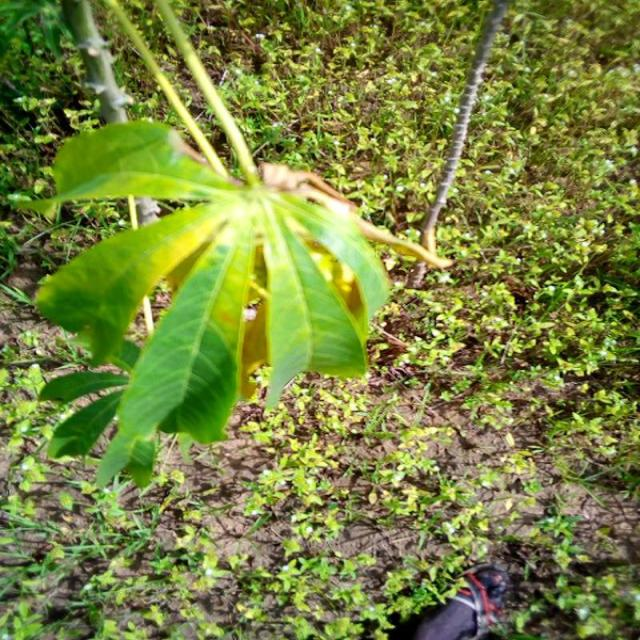cassava leaf: (32, 115, 394, 490)
